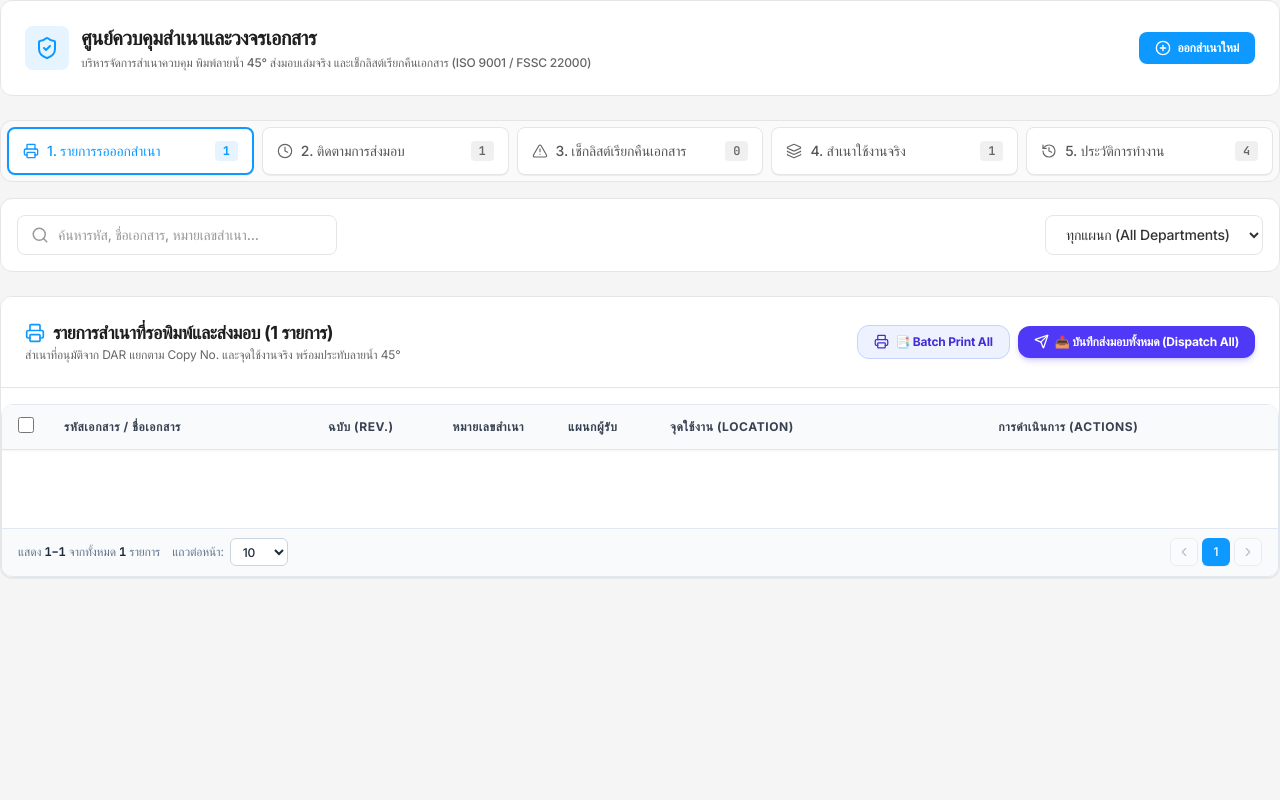
Test: ControlledCopyRegister Unified Tabs & Safe Audit History Tests › 2. Clicking tabs switches active workflow stage cleanly
# Switch to Tab 2: ติดตามการส่งมอบ
Click the text "2. ติดตามการส่งมอบ" at (353, 150), box [301,140,405,160]
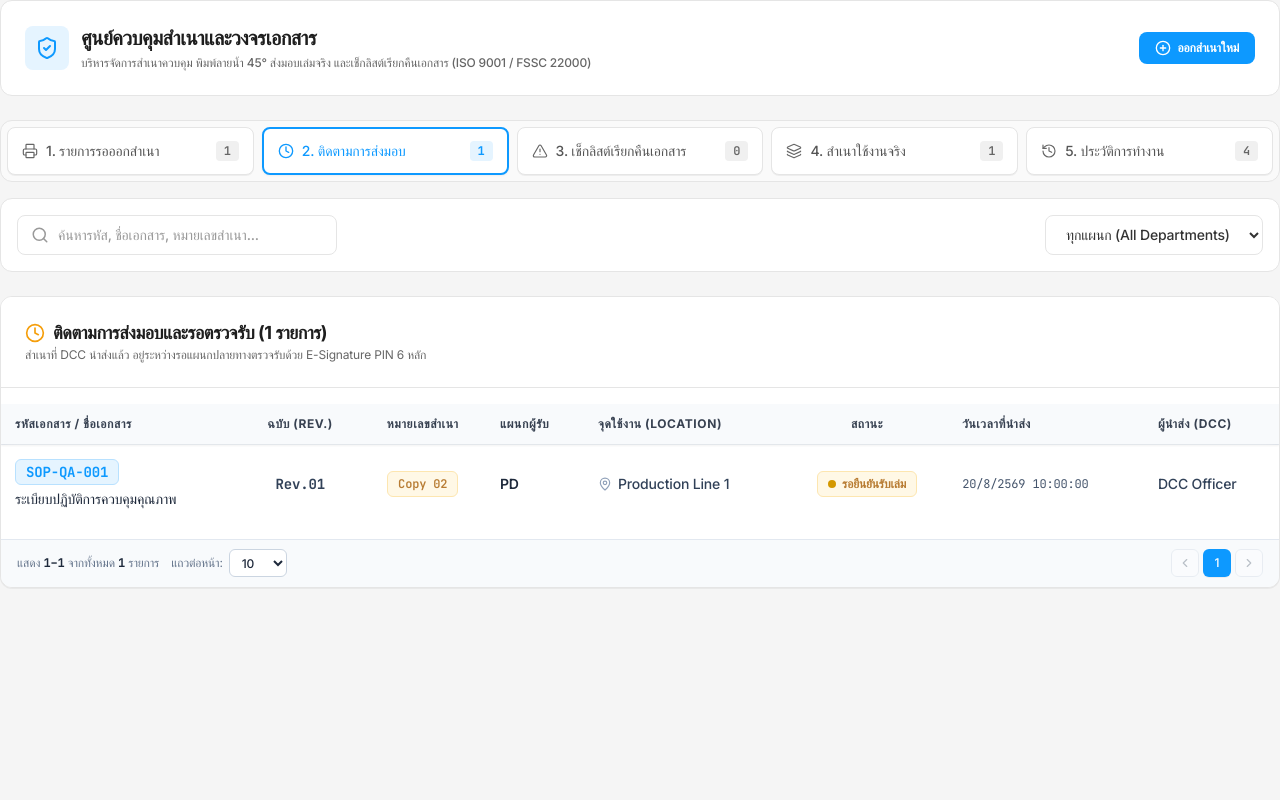
Expected: the heading "ติดตามการส่งมอบและรอตรวจรับ (1 รายการ)" is shown, [25,322,327,343]
# Switch to Tab 4: สำเนาใช้งานจริง
Click the text "4. สำเนาใช้งานจริง" at (858, 150), box [810,140,906,160]
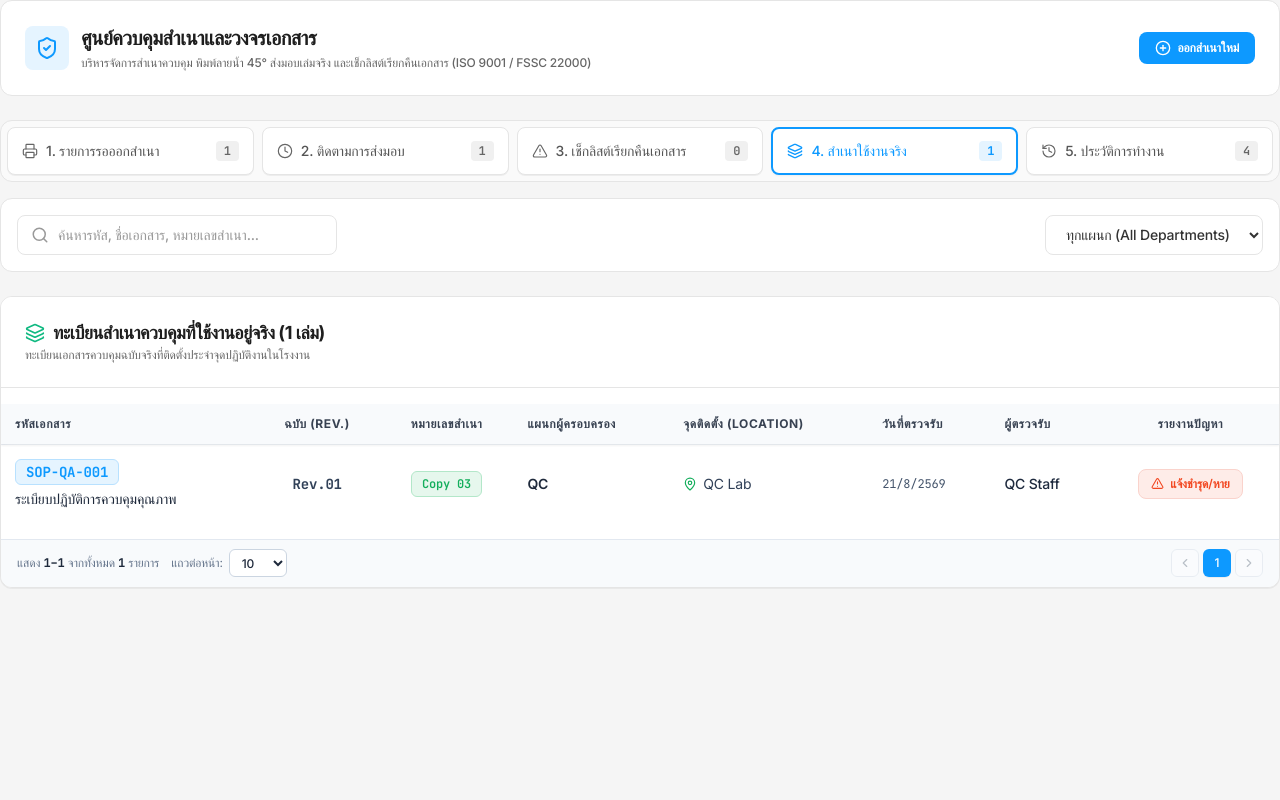
Expected: the heading "ทะเบียนสำเนาควบคุมที่ใช้งานอยู่จริง (1 เล่ม)" is shown, [25,320,325,345]
